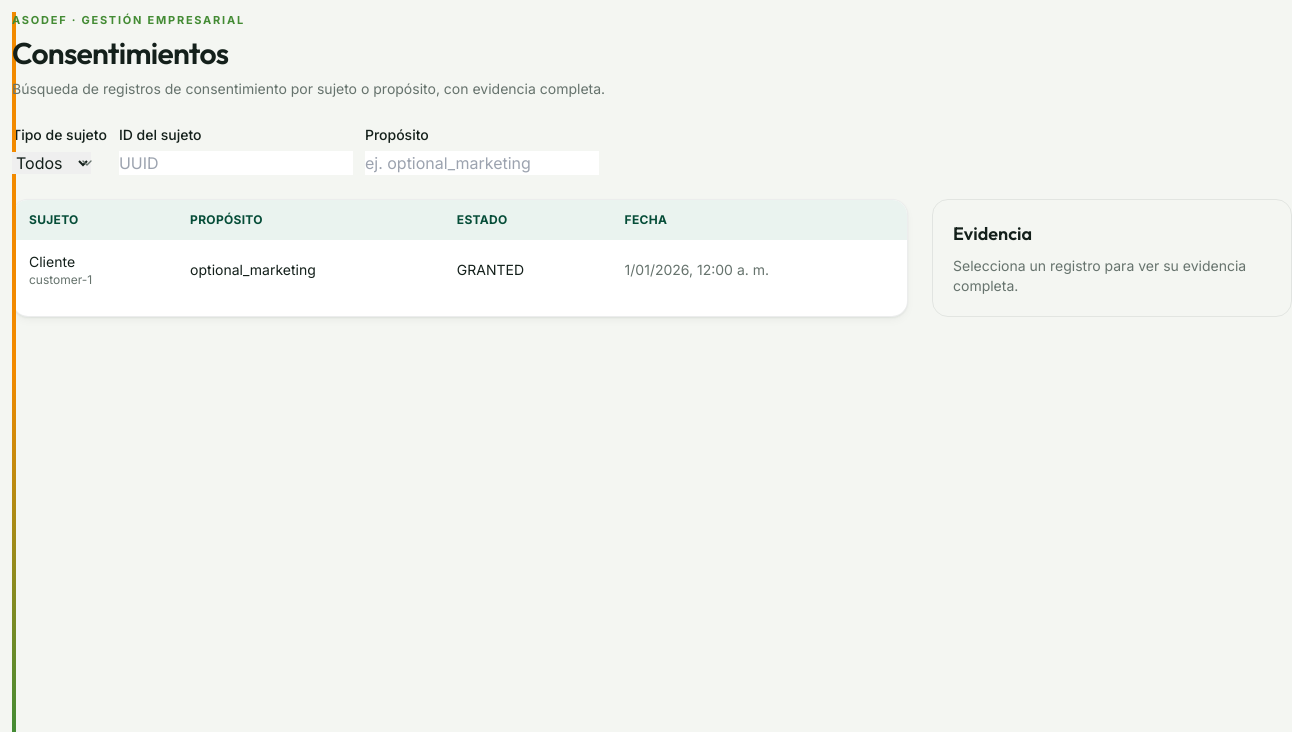
Test: ConsentSearchPage › Example (AC): lists results and shows full evidence (policy version, ip, timestamp, method) on selection
This screenshot has width=1292, height=732.
Click the text "optional_marketing" at (307, 270), box 174,240 -> 441,300
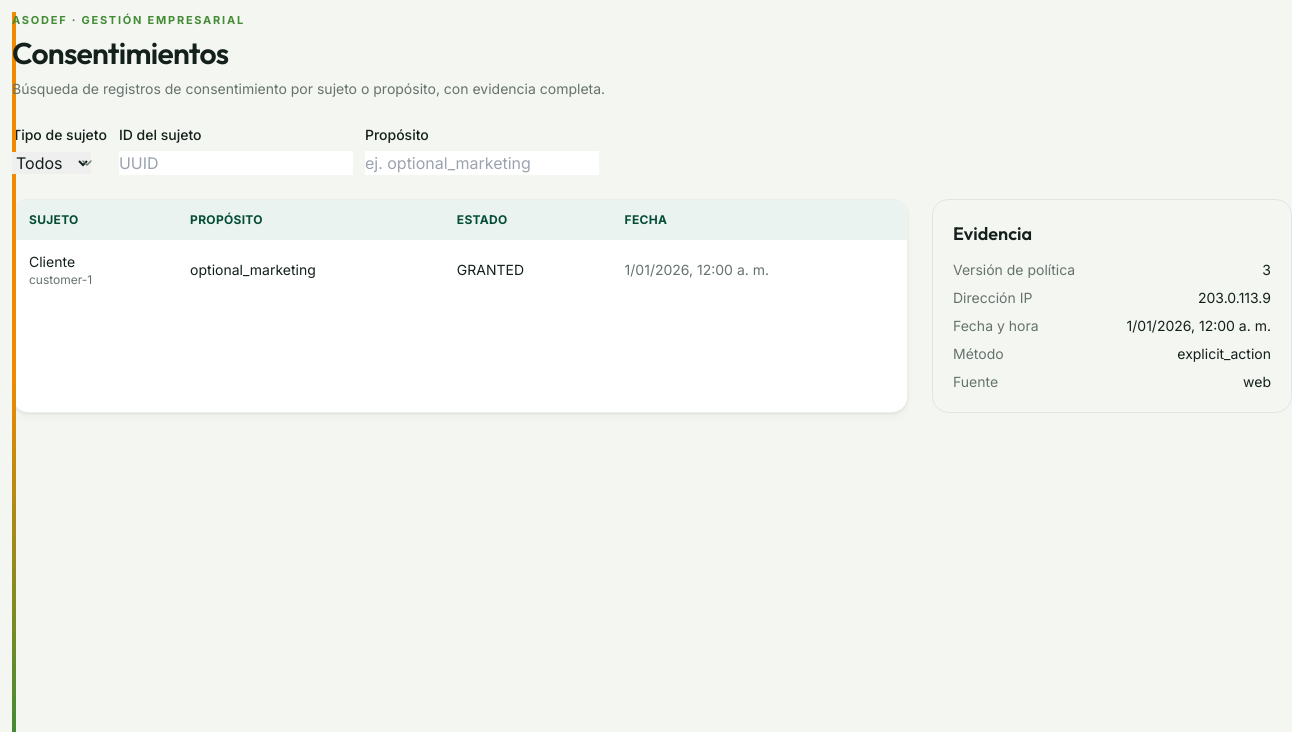
Expected: the text "203.0.113.9" is shown, 1198,288 -> 1271,308
Expected: the text "explicit_action" is shown, 1177,344 -> 1271,364
Expected: the text "3" is shown, 1262,260 -> 1271,280
